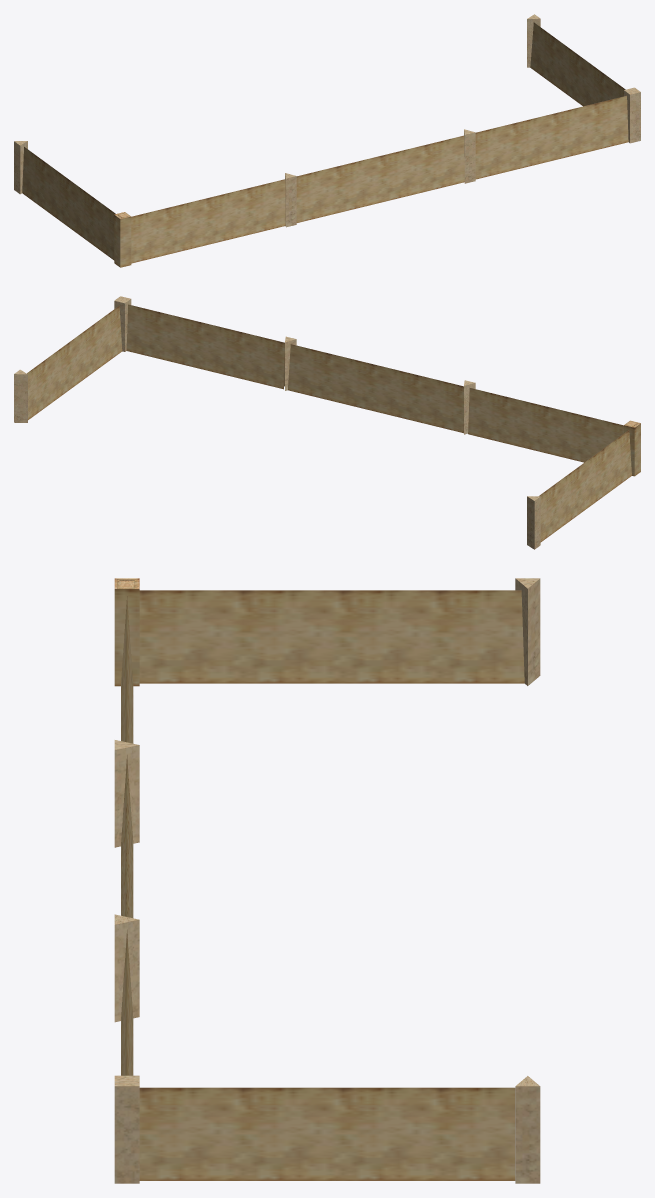
Rendered from poi_tato_corral_half_64x64_s04_l1.fbx.
3 renders of one model, top to bottom at view 1: azimuth 30°, elevation 25°; view 2: azimuth 150°, elevation 25°; view 3: azimuth 270°, elevation 25°, orthographic. The views are drawn at different scales.
Visible parts, largest first — view 1: mesh_node; view 2: mesh_node; view 3: mesh_node.
Part boxes in pixels (left/top/right/bottom): mesh_node: left=14, top=14, right=640, bottom=267; mesh_node: left=14, top=296, right=640, bottom=549; mesh_node: left=114, top=578, right=540, bottom=1183.
Bounding box in the file's own units: 48 × 4.29 × 17.
